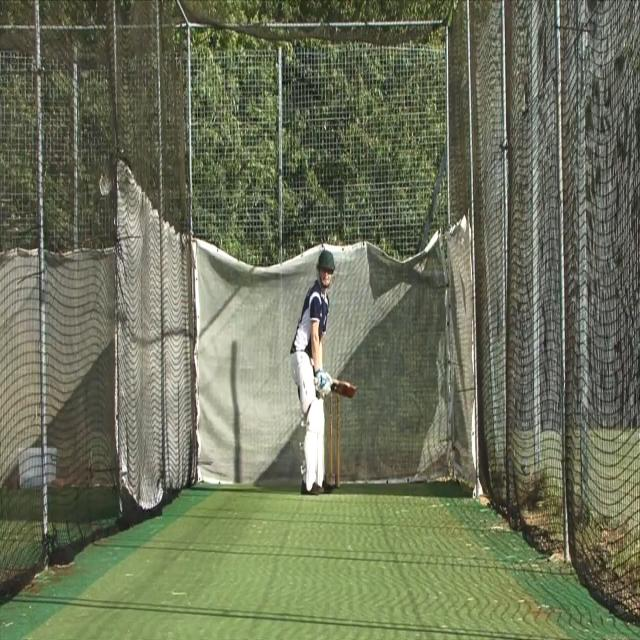batsman: (289, 247, 359, 498)
